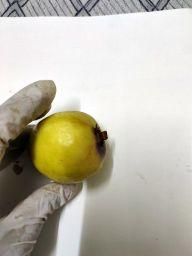guava: (30, 108, 112, 186)
